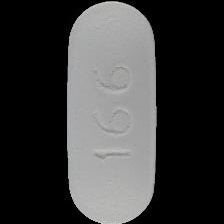51138-107: (0, 0, 224, 224)
